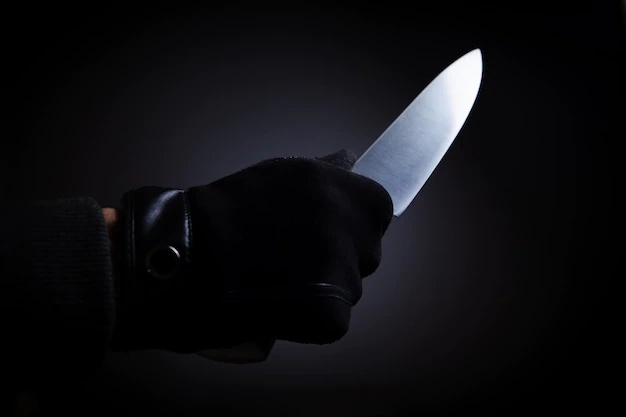knife: (336, 46, 483, 222)
